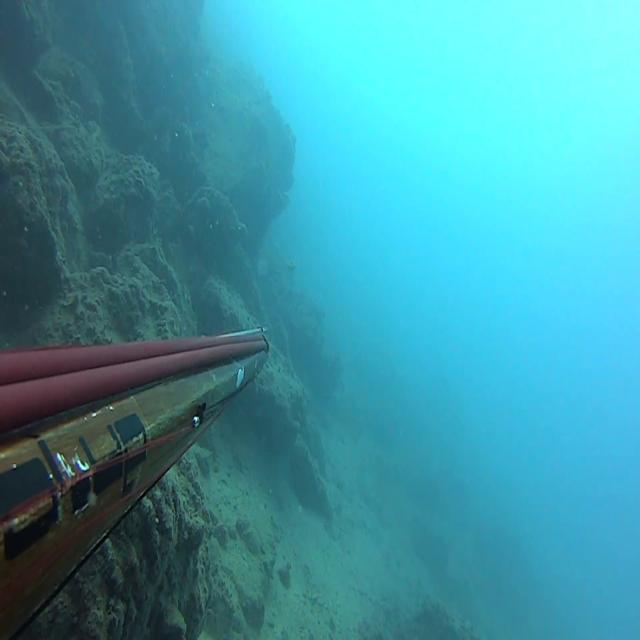Balon Baligi: (286, 260, 296, 273)
